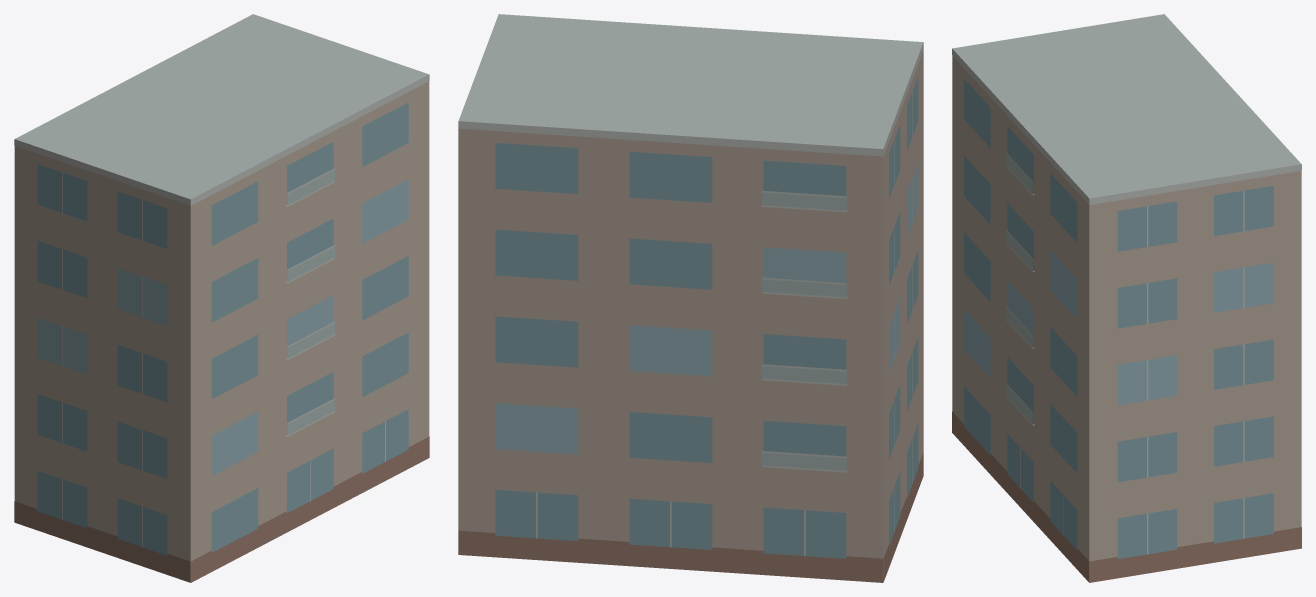
File: survey-upis-33028929.glb
3 renders of one model, left to right at view 1: azimuth 30°, elevation 25°; view 2: azimuth 150°, elevation 25°; view 3: azimuth 270°, elevation 25°, orthographic. The views are drawn at different scales.
Visible parts, largest first — view 1: survey-upis-33028929.tmp; view 2: survey-upis-33028929.tmp; view 3: survey-upis-33028929.tmp.
Part boxes in pixels (x1,y1,x2,y2): survey-upis-33028929.tmp: (14, 14, 429, 582); survey-upis-33028929.tmp: (458, 14, 923, 582); survey-upis-33028929.tmp: (952, 14, 1301, 582).
Size of the model in its own units: 14.72 by 14.27 by 11.78.
